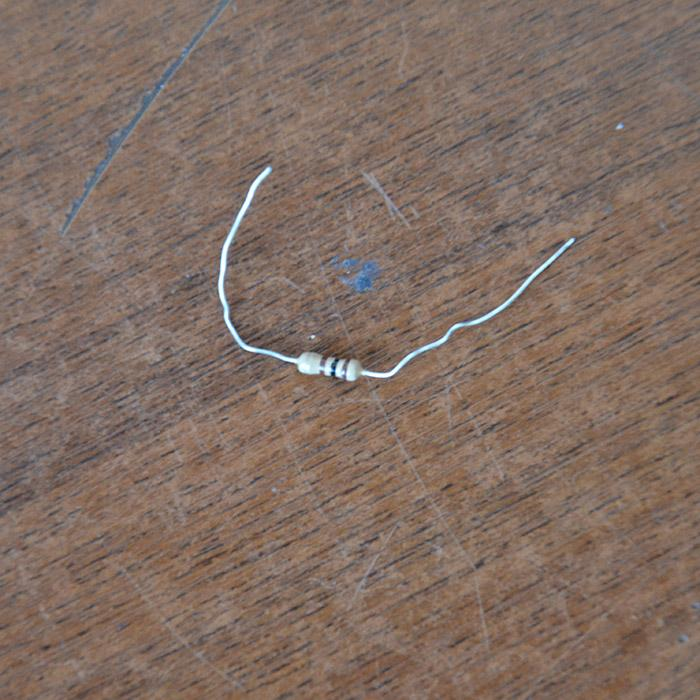resistor: (298, 351, 362, 383)
